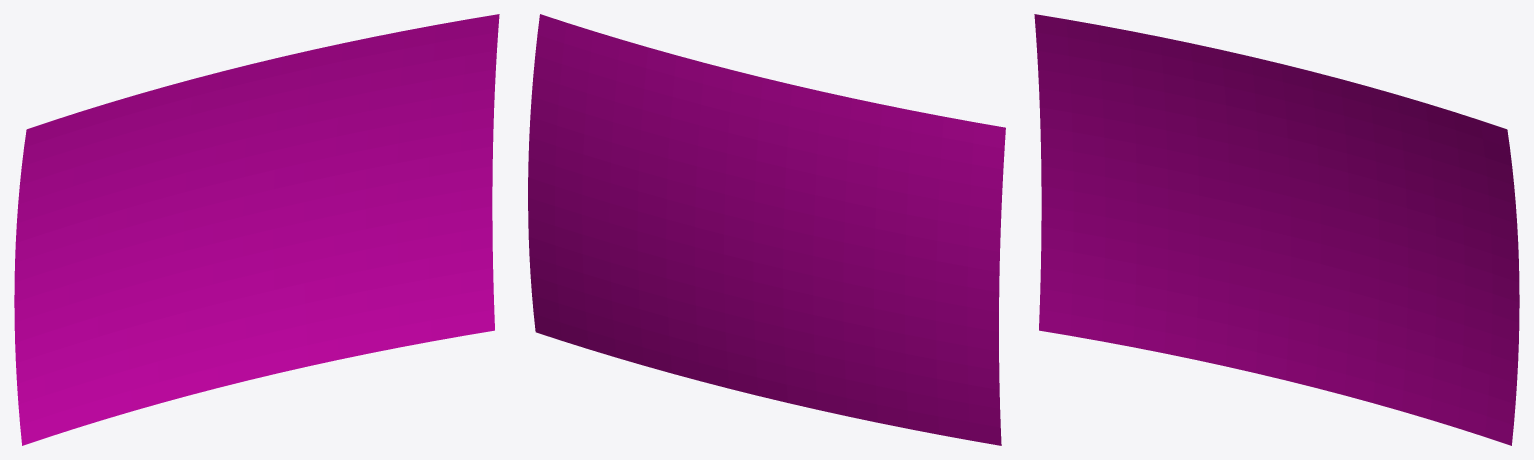
Rendered from crt_screen.glb.
3 renders of one model, left to right at view 1: azimuth 30°, elevation 25°; view 2: azimuth 150°, elevation 25°; view 3: azimuth 330°, elevation 25°, orthographic.
Parts seen in each view (by area): view 1: Screen; view 2: Screen; view 3: Screen.
Part boxes in pixels (bbox=[...]): Screen: bbox=[14, 14, 499, 445]; Screen: bbox=[528, 14, 1005, 445]; Screen: bbox=[1034, 14, 1519, 445].
Size of the model in its own units: 4.05 by 2.59 by 0.2916.
